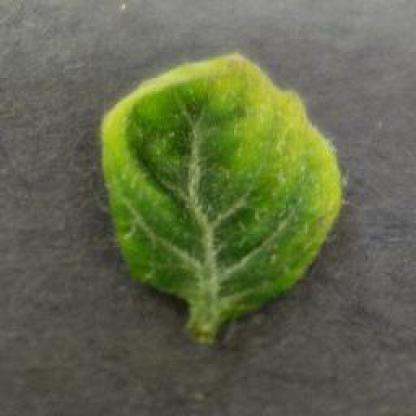bad leaf: (69, 25, 340, 358)
